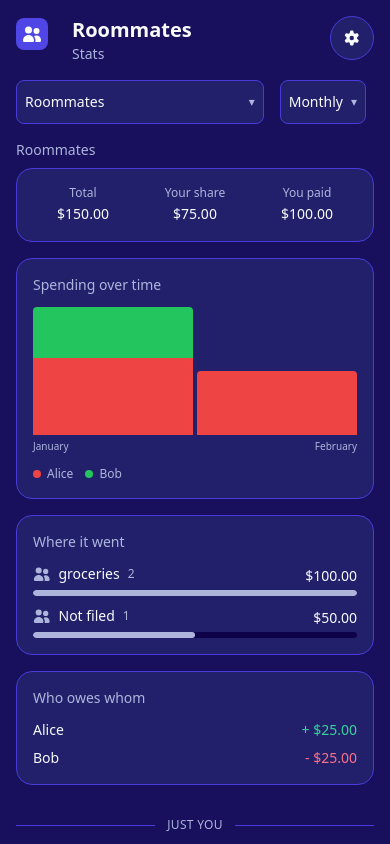
StatsView › asking about a bar › answers a tap, which is all a phone has
What coordinates should you click on to do the following:
click the 2nd button with test id "bar"
I would click on:
 (277, 371)
Its box is [197, 307, 357, 435].
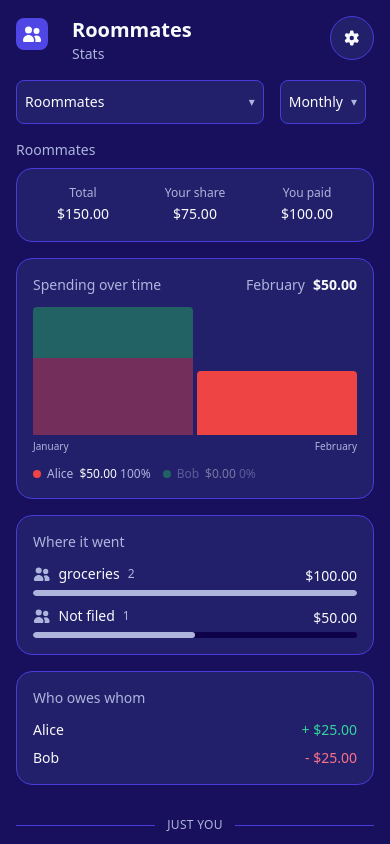
Expected: the element with test id "bar-readout" shows "50.00", [313, 275, 357, 294]
